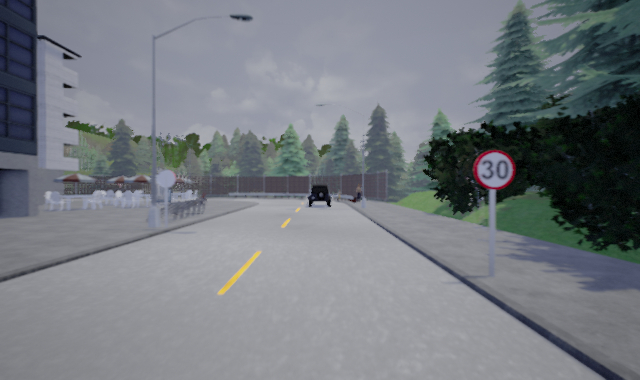pedestrian: (354, 183, 363, 203)
traffic_sign: (472, 149, 516, 190)
vehicle: (308, 183, 331, 206)
